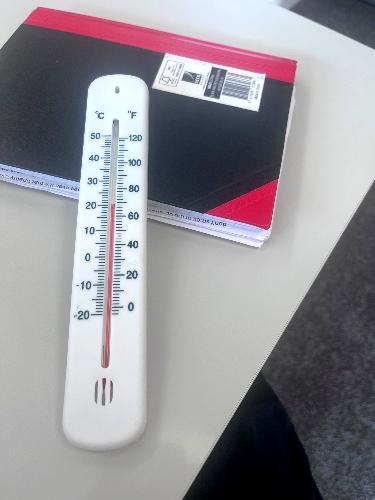thermo: (62, 73, 157, 448)
